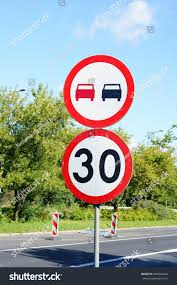Speed_limit_30km: (62, 129, 133, 204)
